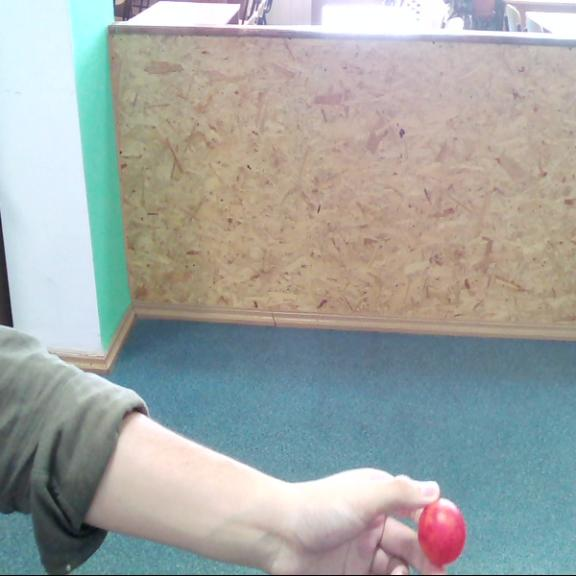ball: (416, 501, 469, 565)
